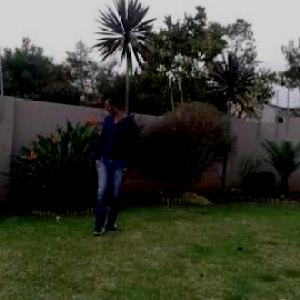follow: (86, 81, 140, 251)
